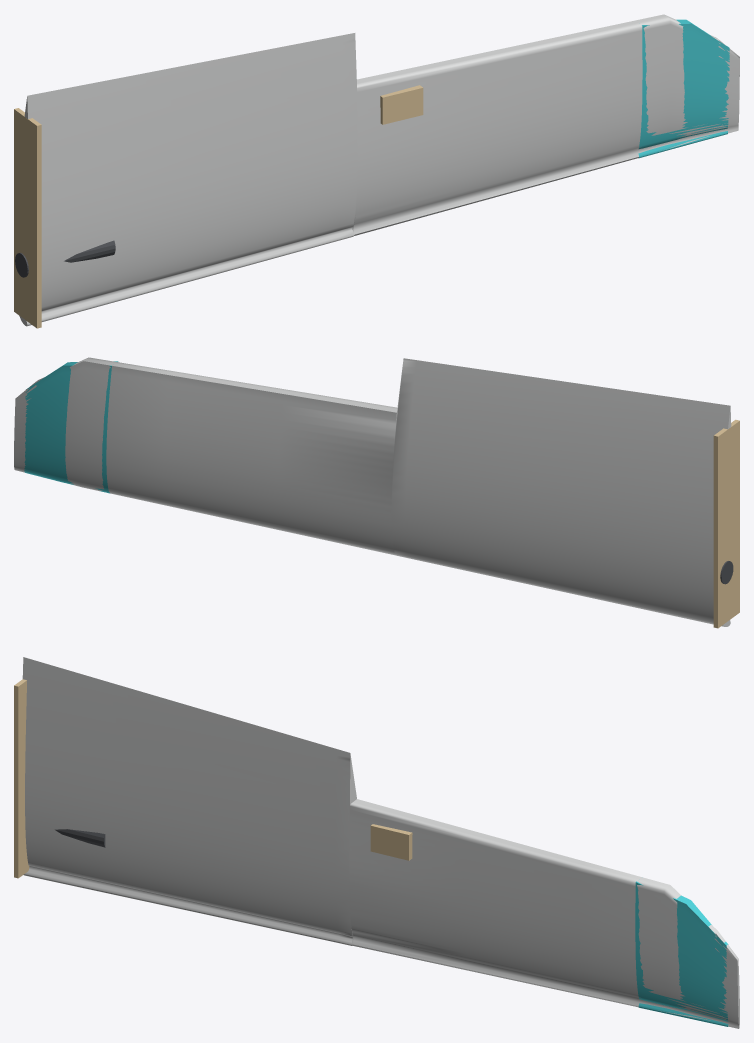
The model's file is ala.glb.
The picture shows the model from 3 angles, top to bottom: view 1: azimuth 30°, elevation 25°; view 2: azimuth 150°, elevation 25°; view 3: azimuth 330°, elevation 25°; orthographic projection. The views are drawn at different scales.
Visible parts, largest first — view 1: Semiala; view 2: Semiala; view 3: Semiala.
Boxes of the visible parts, box(x1,y1,x2,y2) form: Semiala: box(14, 14, 739, 328); Semiala: box(14, 357, 739, 628); Semiala: box(14, 657, 739, 1028).
Size of the model in its own units: 0.551 by 0.1659 by 0.0505.
